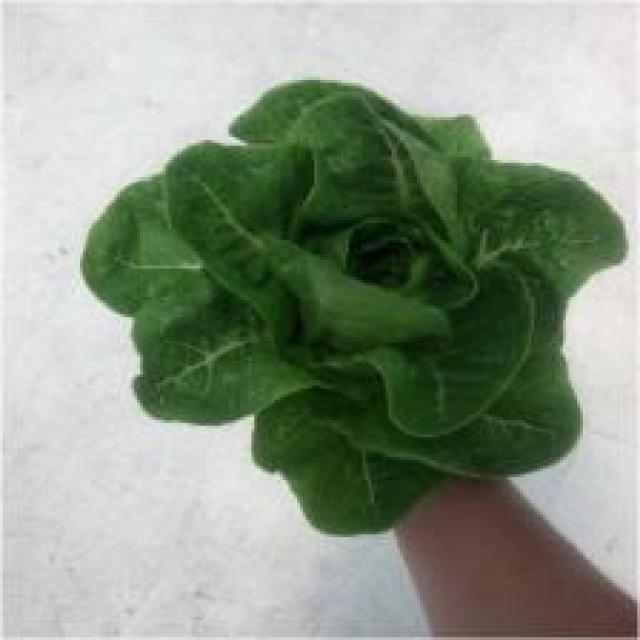Lettuce: (80, 71, 634, 536)
